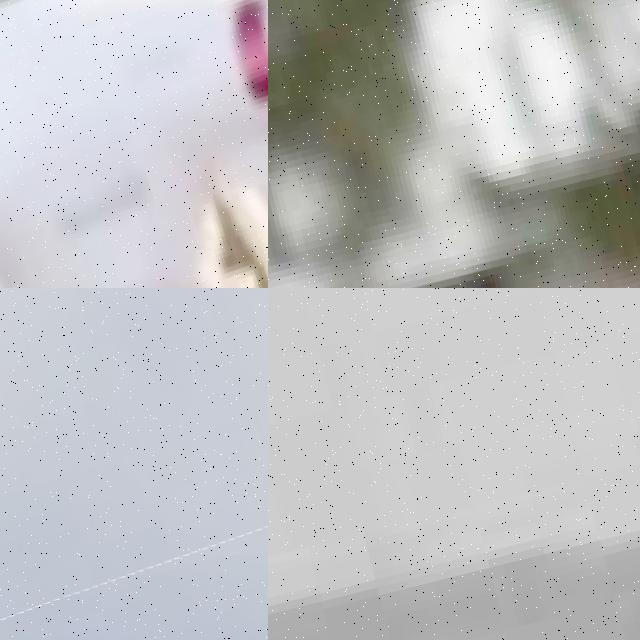0: (0, 0, 268, 288)
drone: (0, 288, 268, 640)
